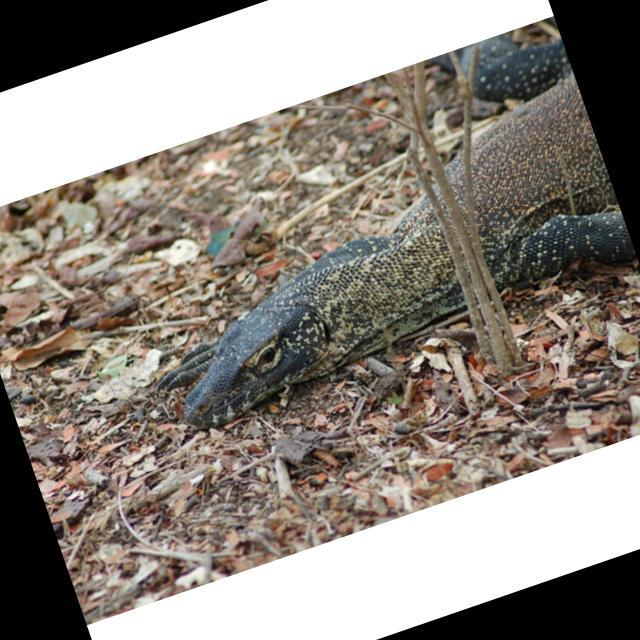KomodoDragon: (84, 15, 640, 443)
